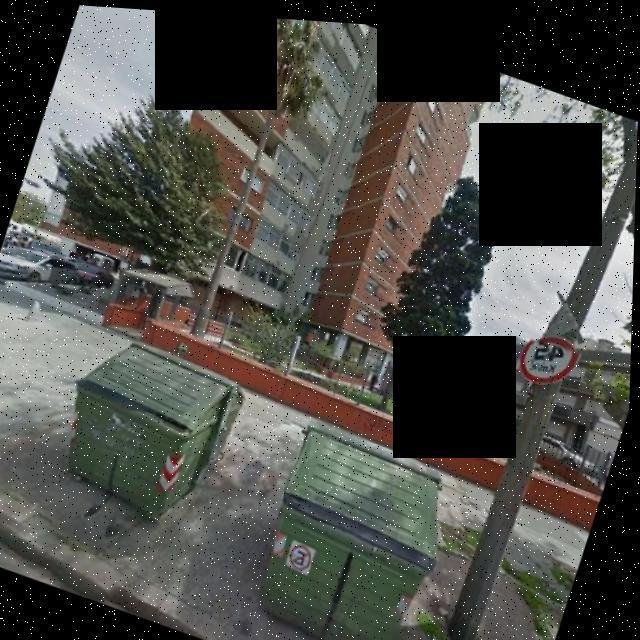bin: (231, 398, 480, 640), (29, 308, 265, 556)
